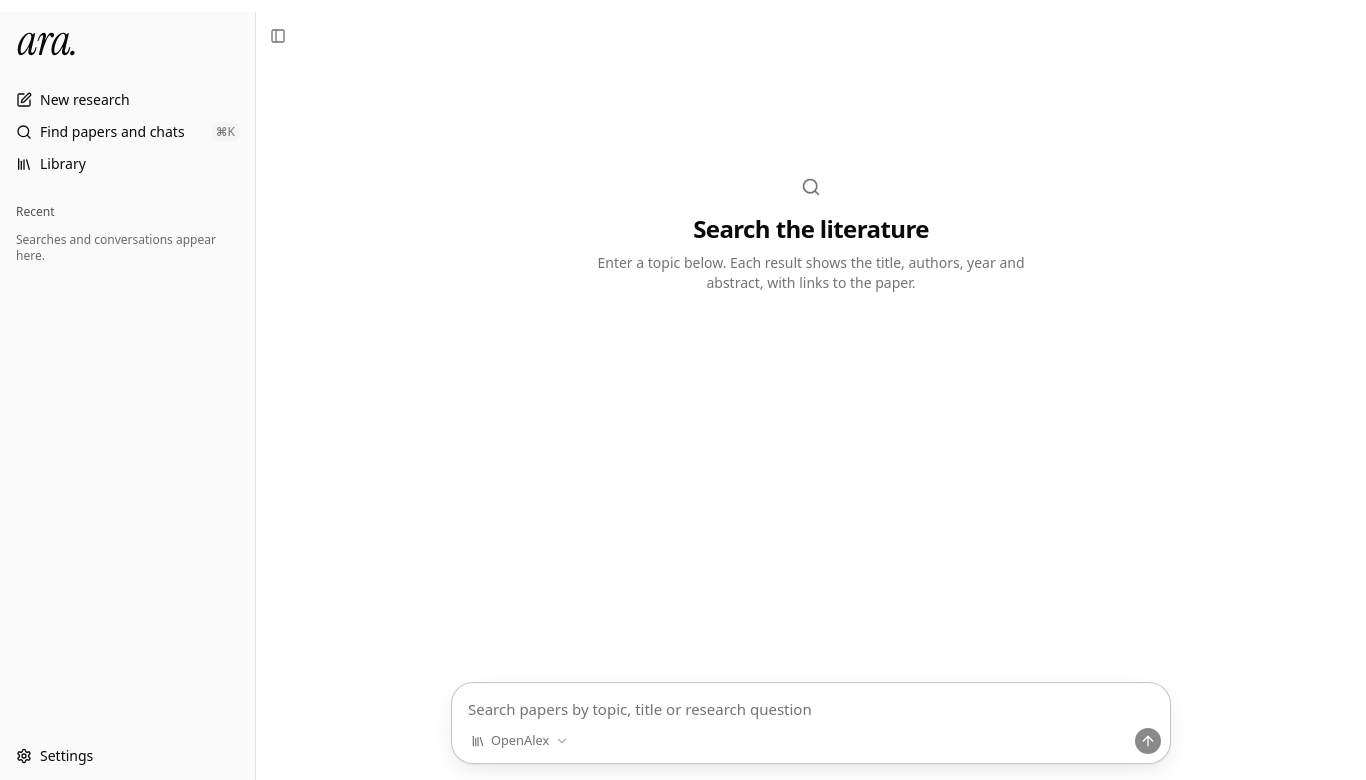
Scenario: Given search results, When one is saved, Then it is confirmed and can be opened from the row
In the field named "Research topic": [811, 705] box x1=452 y1=683 x2=1170 y2=727, type "retrieval"
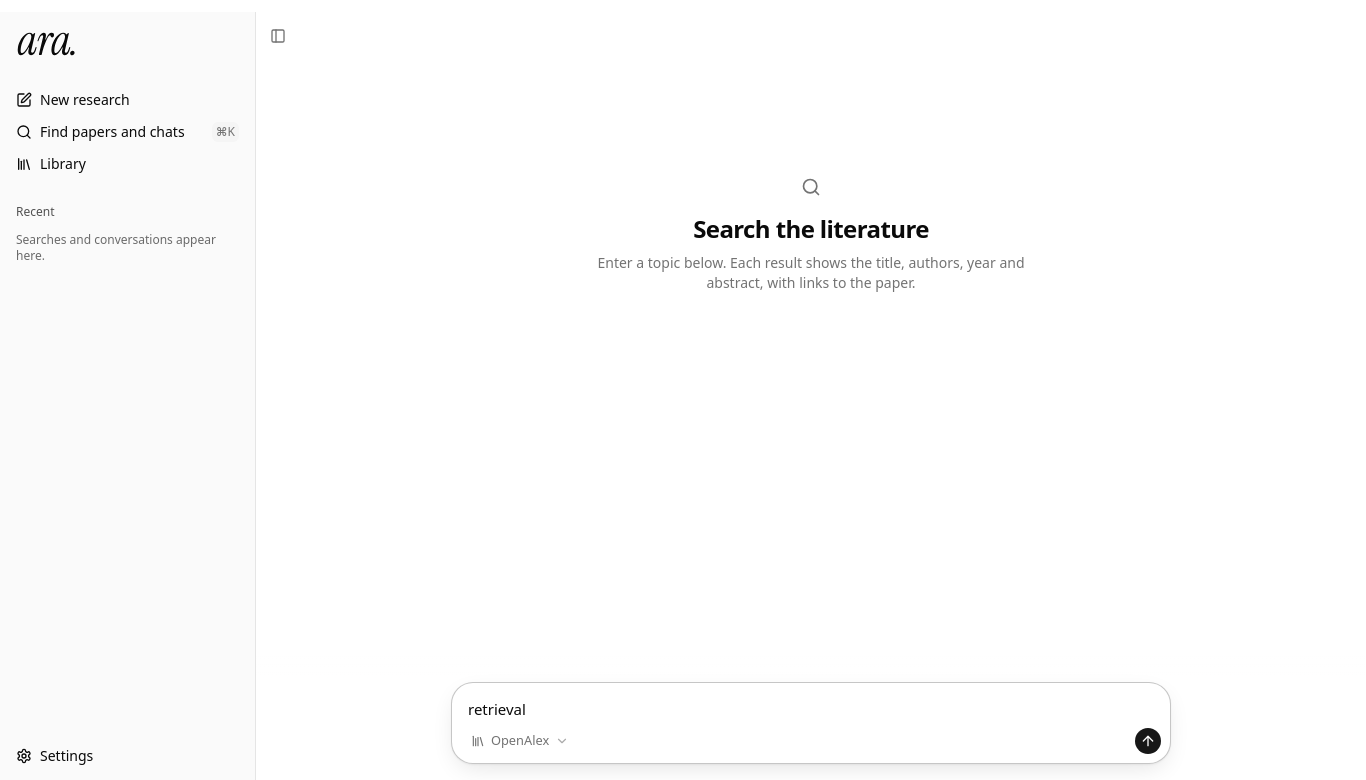
Click the button named "Search papers": [1148, 741] box x1=1134 y1=727 x2=1162 y2=755
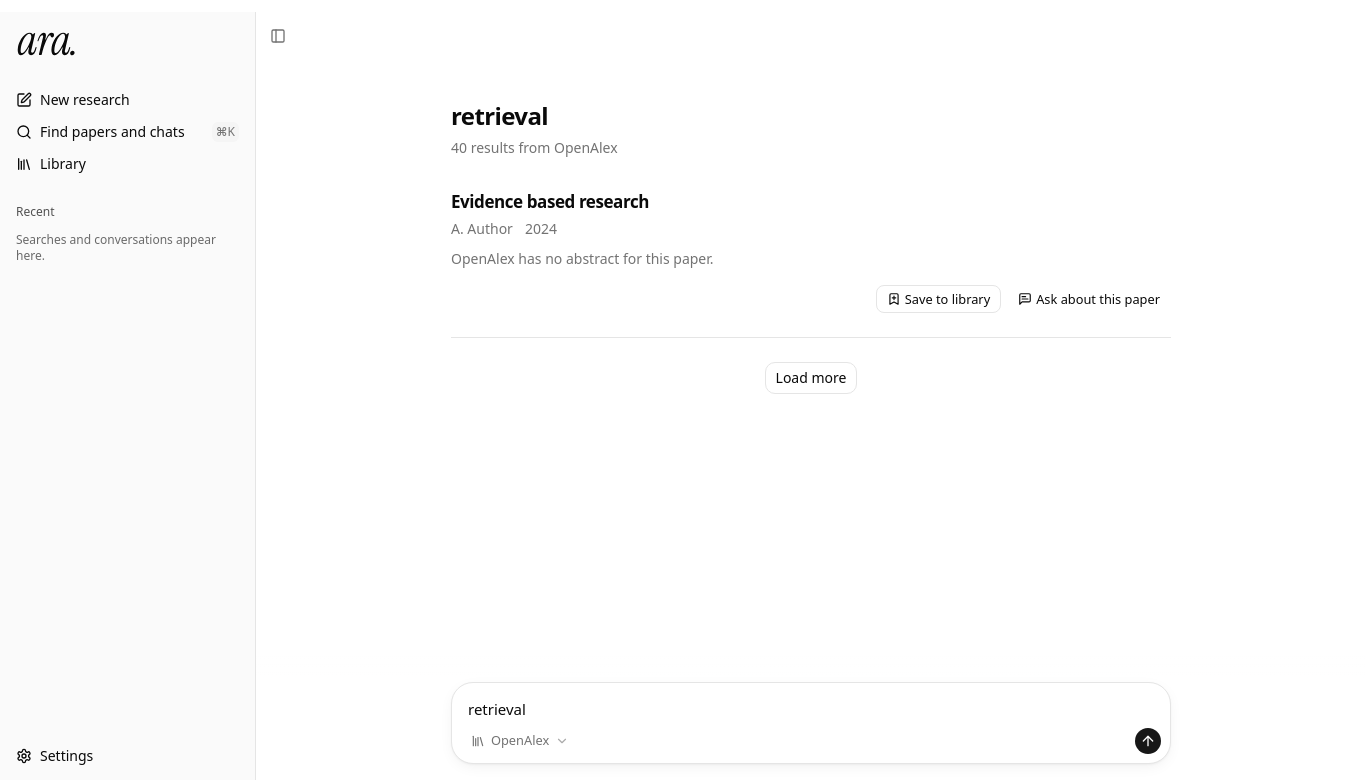
Expected: the heading "Evidence based research" is shown, x1=451 y1=190 x2=649 y2=213
Click the button "Save to library": [938, 299] box x1=876 y1=285 x2=1001 y2=313
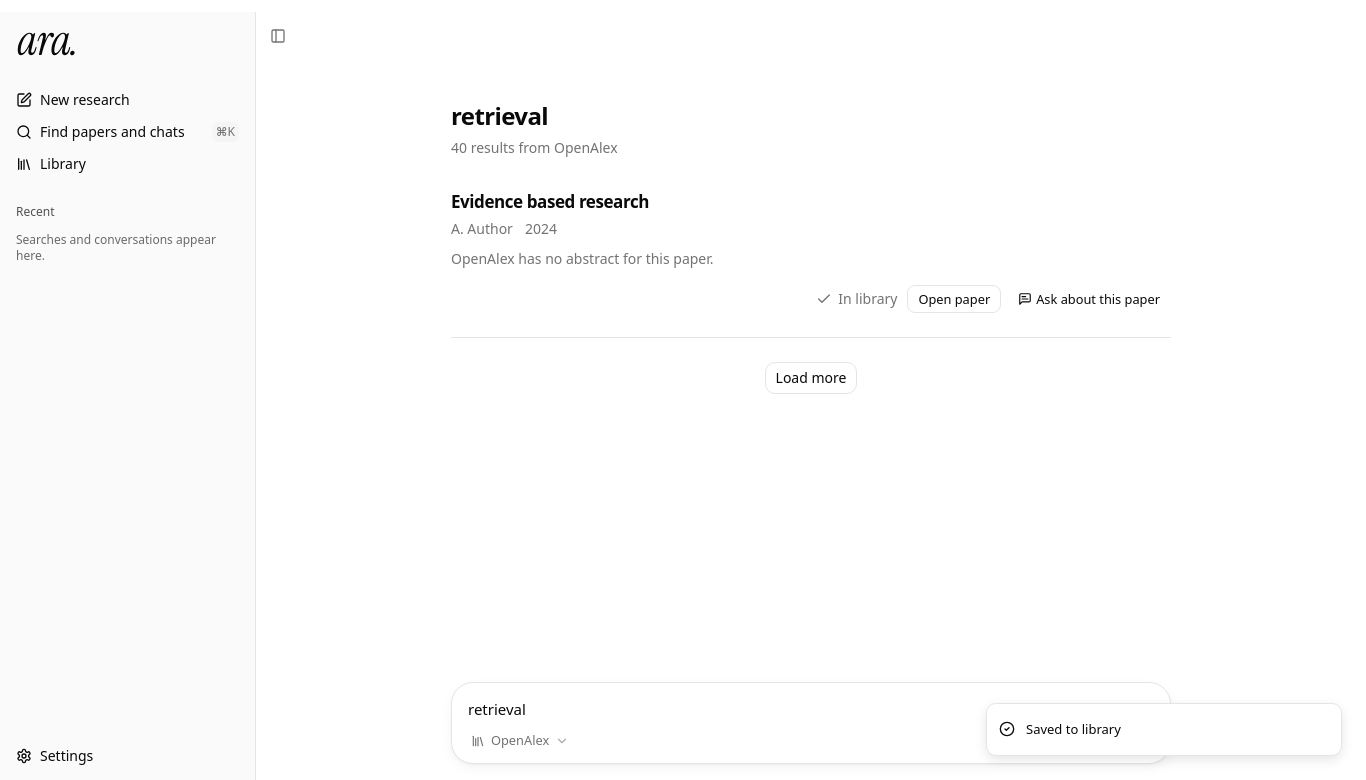
Expected: the button "Load more" is shown, x1=765 y1=362 x2=858 y2=394
Expected: the text "Saved to library" is shown, x1=1026 y1=720 x2=1121 y2=739
